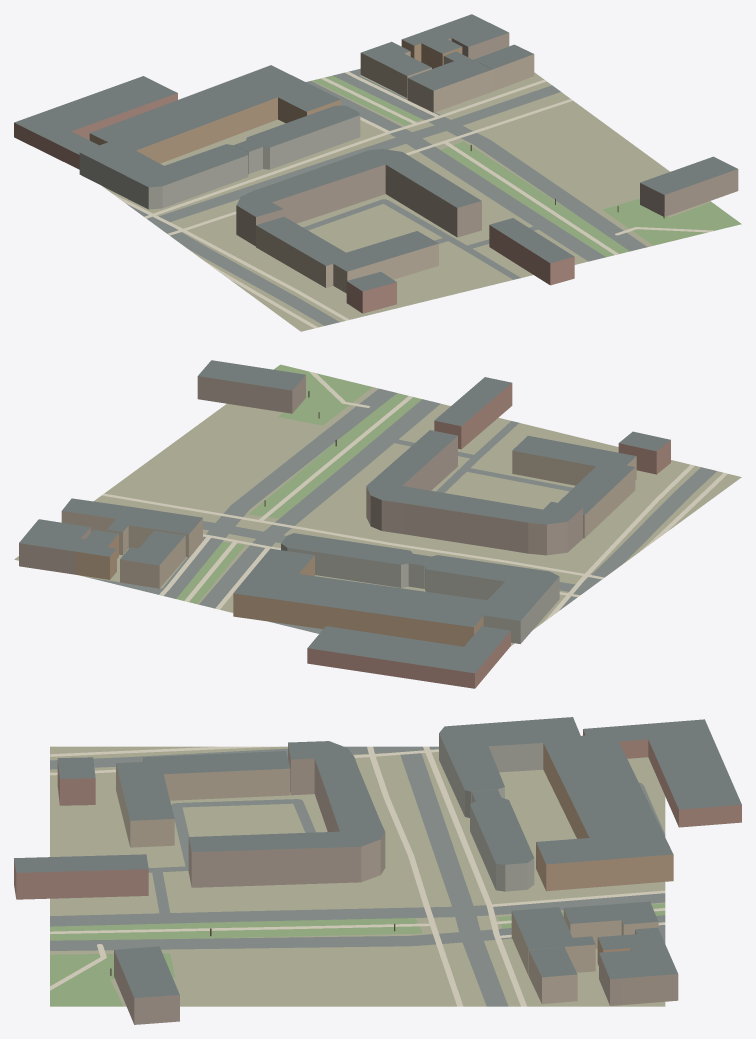
File: sector-1_-5.glb
3 renders of one model, top to bottom at view 1: azimuth 30°, elevation 25°; view 2: azimuth 150°, elevation 25°; view 3: azimuth 270°, elevation 25°, orthographic. The views are drawn at different scales.
Visible parts, largest first — view 1: 1:-5-roof, 1:-5-ground, 1:-5-facade, 1:-5-road, 1:-5-park, 1:-5-paving; view 2: 1:-5-roof, 1:-5-facade, 1:-5-ground, 1:-5-road, 1:-5-park, 1:-5-paving; view 3: 1:-5-ground, 1:-5-roof, 1:-5-facade, 1:-5-road, 1:-5-park, 1:-5-paving.
Part boxes in pixels (box(x1,y1,x2,y2)): 1:-5-roof: box(14, 14, 737, 291); 1:-5-ground: box(89, 72, 710, 331); 1:-5-facade: box(14, 33, 738, 313); 1:-5-road: box(127, 68, 647, 325); 1:-5-park: box(312, 75, 741, 257); 1:-5-paving: box(112, 71, 713, 328); 1:-5-roof: box(19, 360, 670, 673); 1:-5-facade: box(19, 375, 670, 688); 1:-5-ground: box(14, 387, 741, 645); 1:-5-road: box(89, 388, 716, 633); 1:-5-park: box(176, 364, 421, 603); 1:-5-paving: box(101, 371, 727, 621); 1:-5-ground: box(50, 746, 665, 1006); 1:-5-roof: box(14, 717, 741, 998); 1:-5-facade: box(14, 729, 741, 1024); 1:-5-road: box(50, 746, 665, 1006); 1:-5-park: box(50, 903, 665, 1006); 1:-5-paving: box(50, 746, 665, 1006).
Bounding box in the file's own units: 221 × 12.8 × 237.
